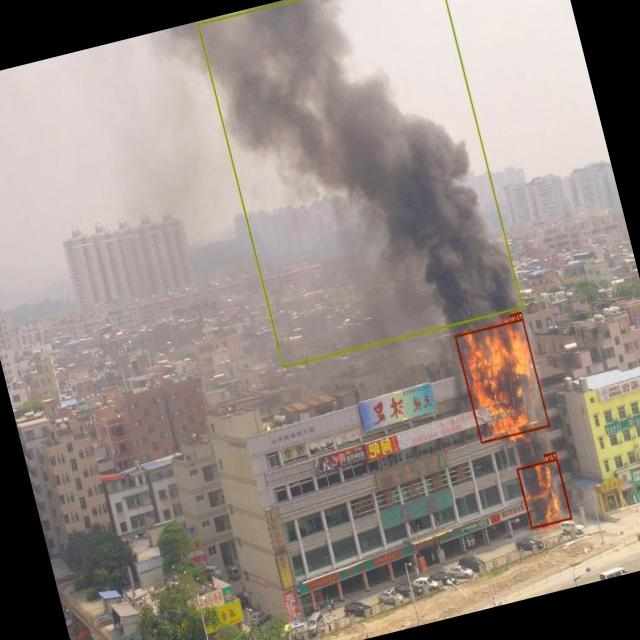fire: (454, 318, 550, 442), (516, 458, 572, 528)
smoke: (196, 0, 523, 367)
